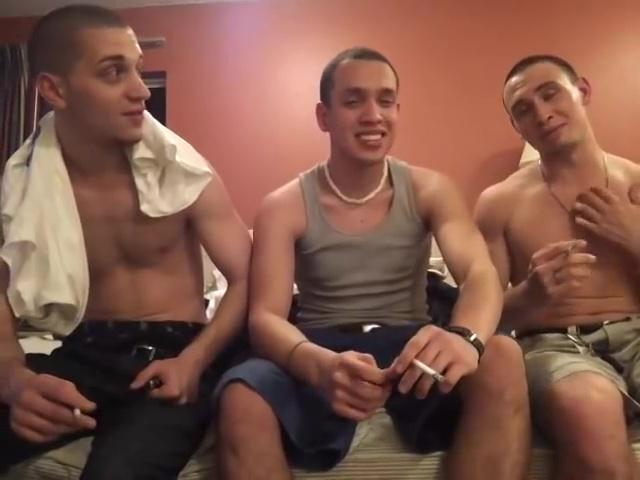cigarette: (410, 356, 446, 386), (71, 407, 84, 421)
